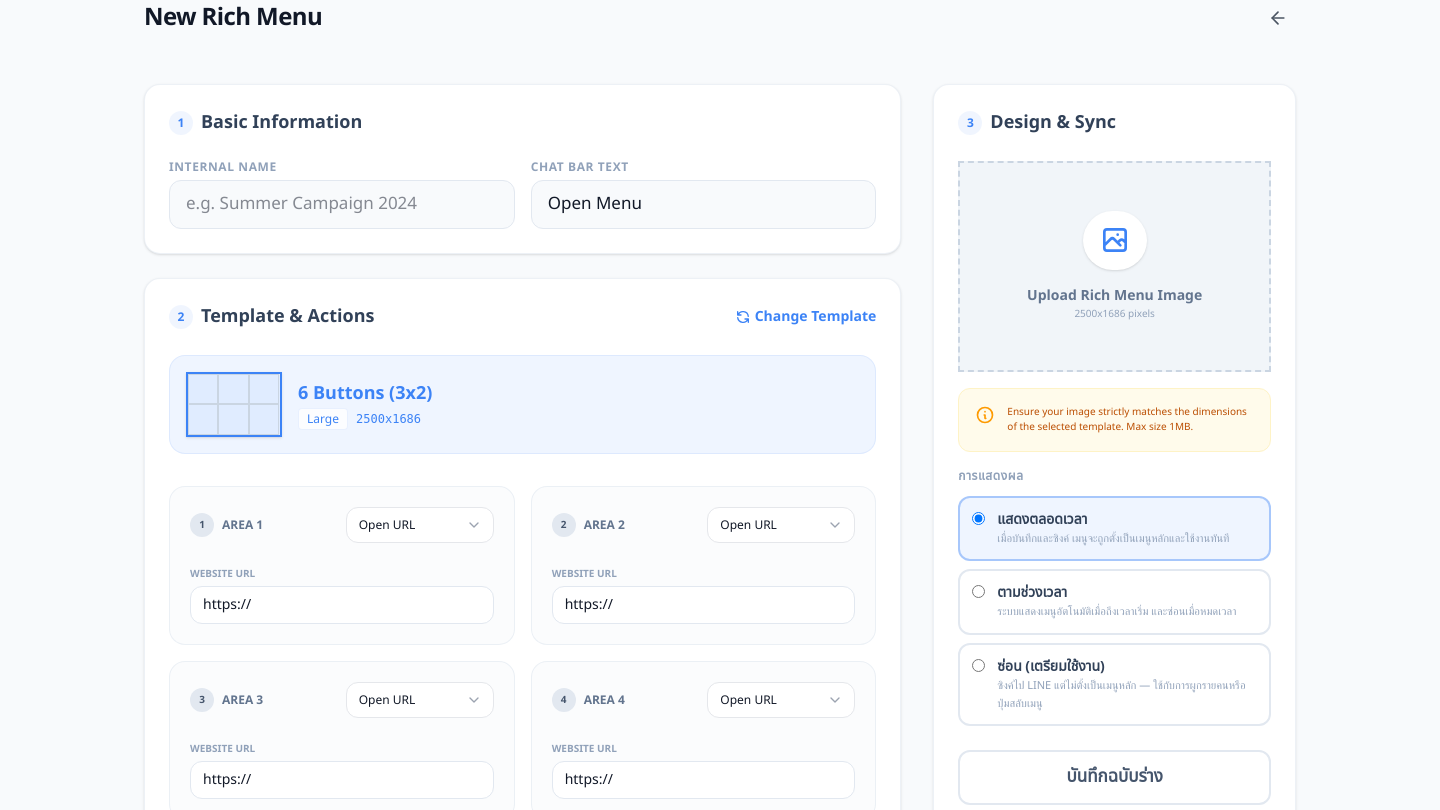
NewRichMenuPage — display period Thai schedule › schedules with the Thai (พ.ศ.) picker + time inputs, not datetime-local
Click the 2nd radio button at (979, 592), box [972,585,985,598]
(page scrolled)
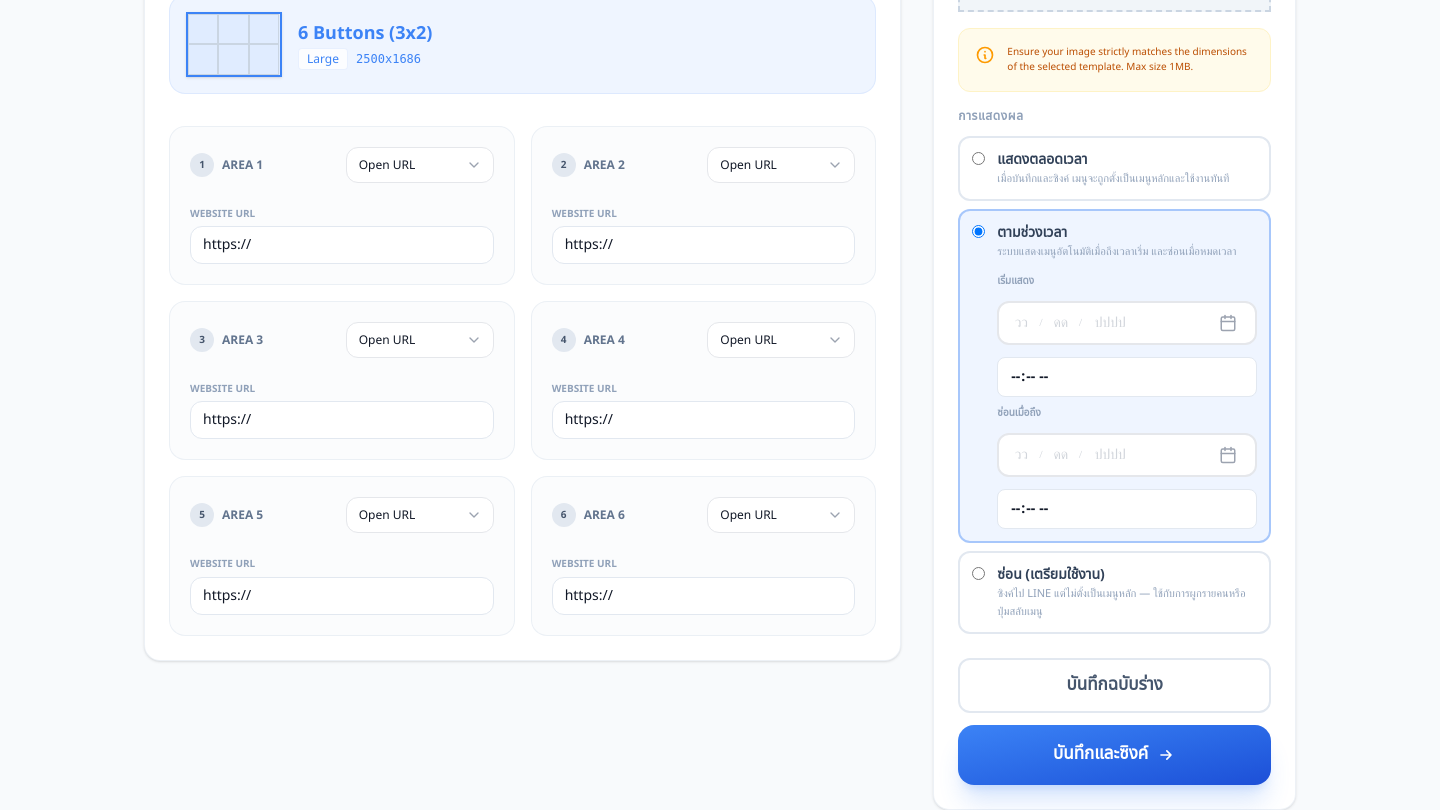
Expected: the time field named "เวลาเริ่มแสดง" is shown, [997,357,1257,397]
Expected: the field named "วันที่ซ่อนเมื่อถึง" is shown, [1003,439,1039,471]
Expected: the time field named "เวลาซ่อนเมื่อถึง" is shown, [997,489,1257,529]
